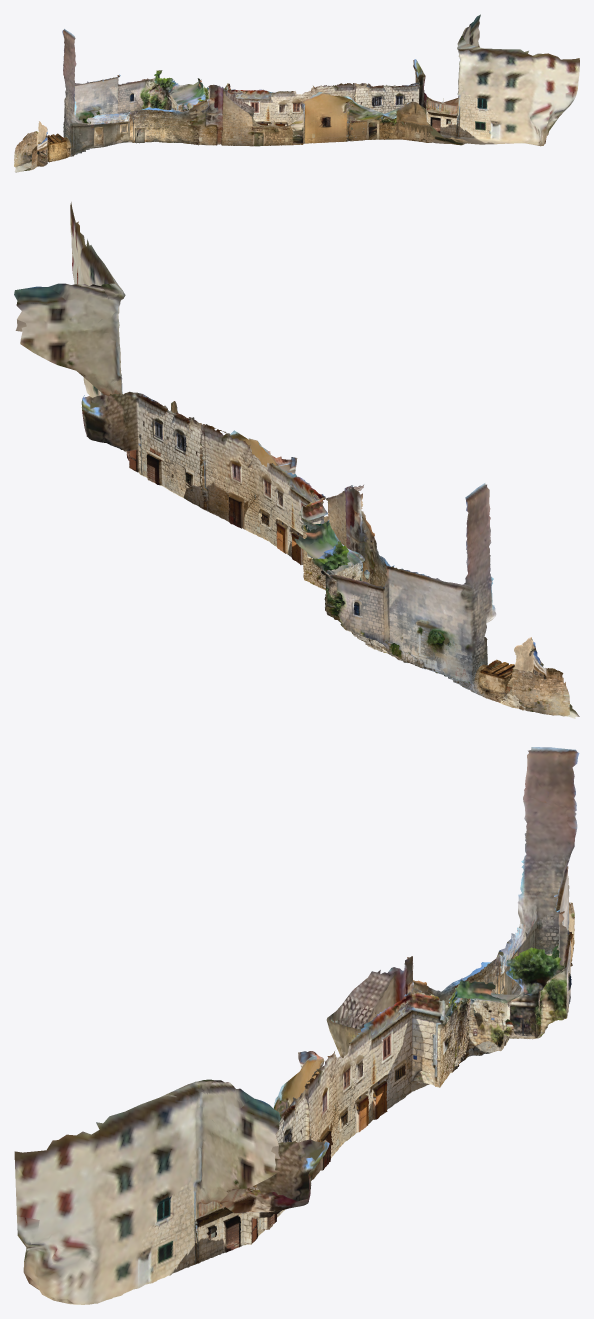
3 renders of one model, top to bottom at view 1: azimuth 30°, elevation 25°; view 2: azimuth 150°, elevation 25°; view 3: azimuth 270°, elevation 25°, orthographic. The views are drawn at different scales.
Parts seen in each view (by area): view 1: export_0; view 2: export_0; view 3: export_0.
Part boxes in pixels (x1=…): export_0: x1=14, y1=14, x2=579, y2=172; export_0: x1=14, y1=202, x2=579, y2=718; export_0: x1=14, y1=747, x2=579, y2=1304.
Size of the model in its own units: 79.85 by 21.85 by 44.99.
Materials: 1 (1 with a texture image).
